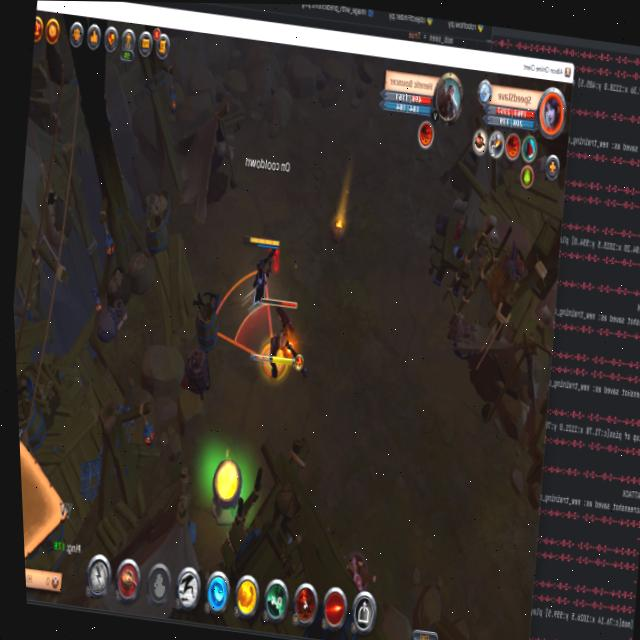fiber: (195, 445, 258, 545)
ore: (251, 292, 307, 387)
red: (237, 231, 286, 311)
silver: (203, 258, 294, 363)
